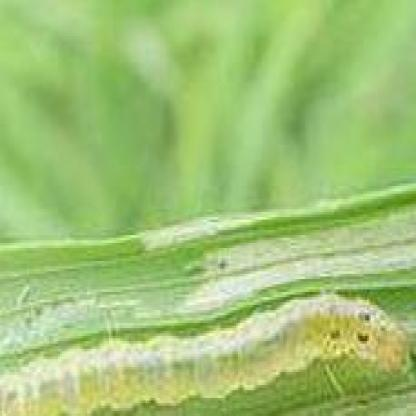leaf-folder: (14, 278, 416, 413)
